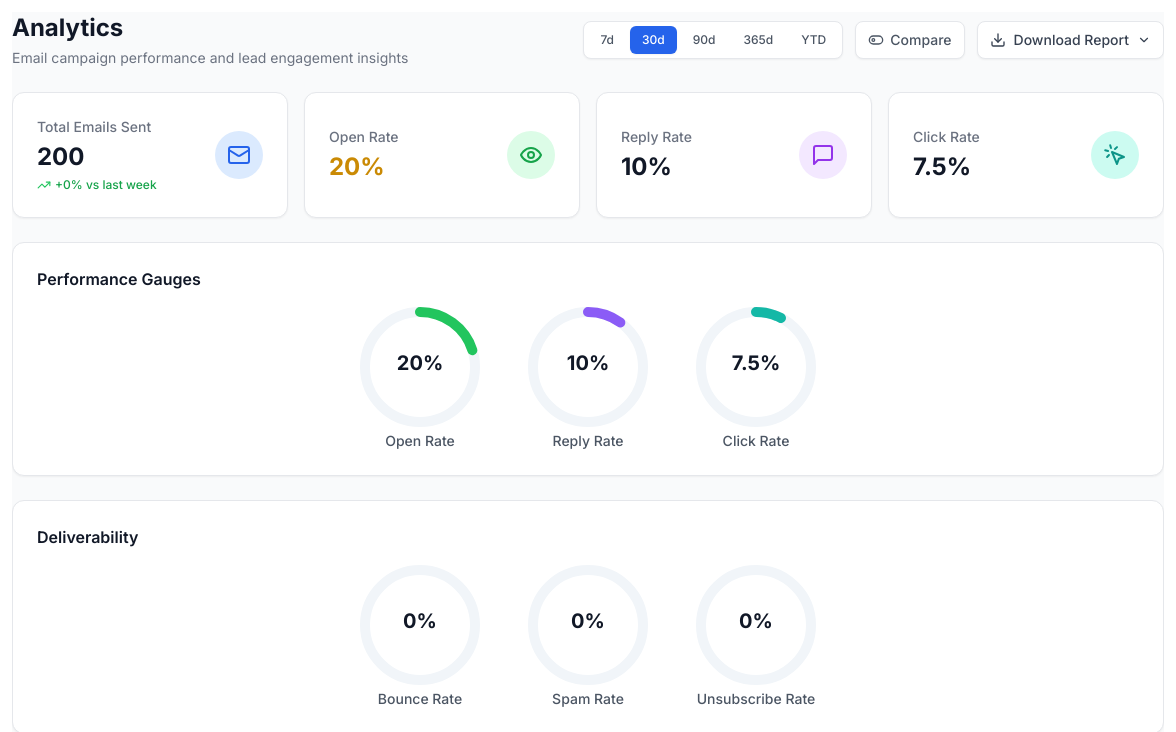
Test: Analytics — period comparison badges › reports the click rate change instead of a hardcoded zero
expect the text "vs previous period" is not shown: met
Click the button "Compare" at (910, 40), box [855,21,965,59]
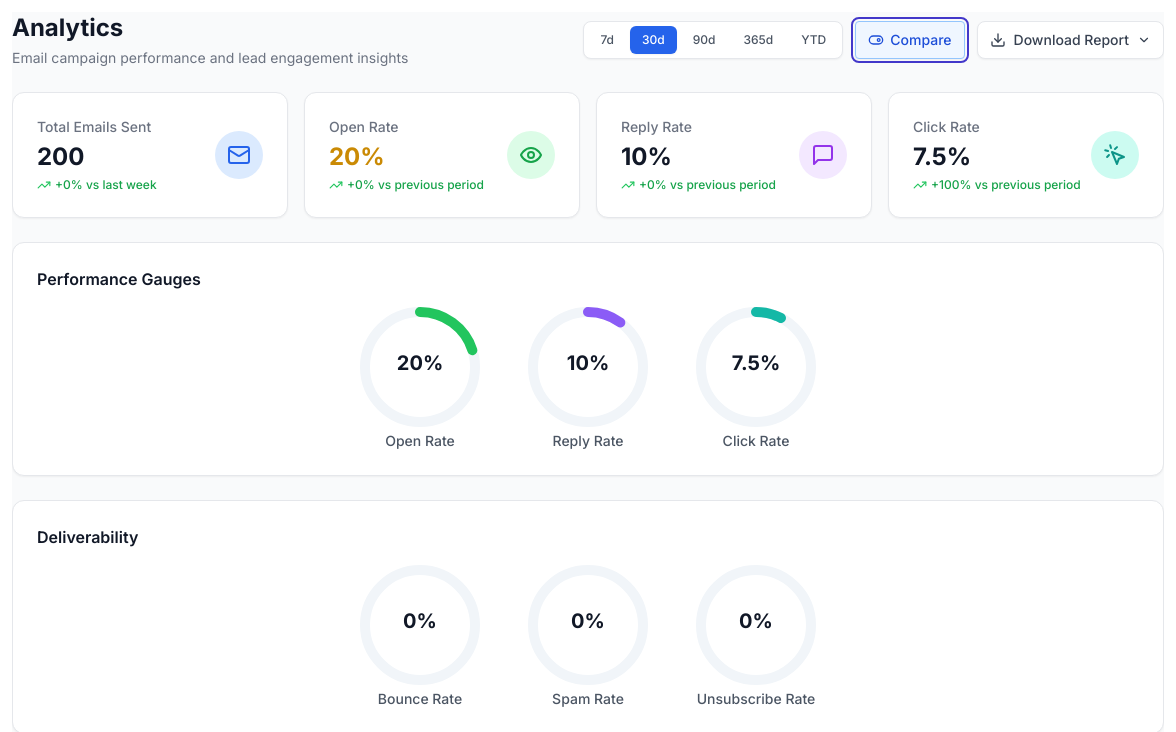
expect the text "+100% vs previous period" is shown: met, box [931,177,1081,193]
